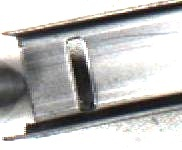40ngpress: (1, 12, 128, 139)
